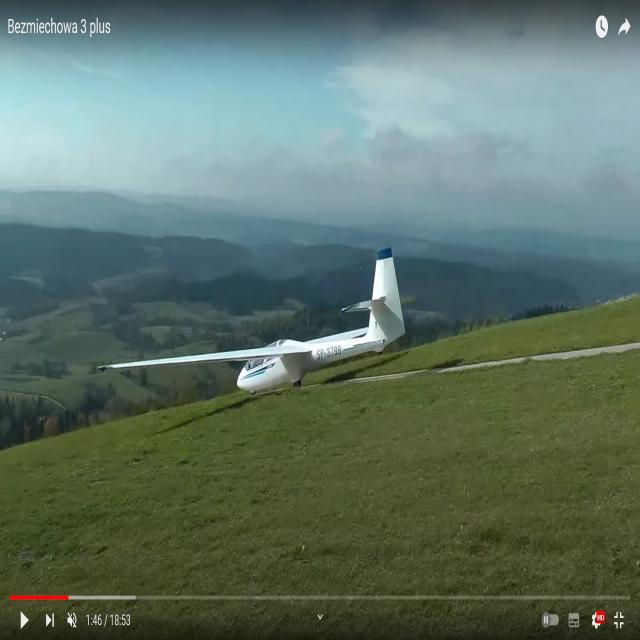iha: (102, 242, 398, 408)
